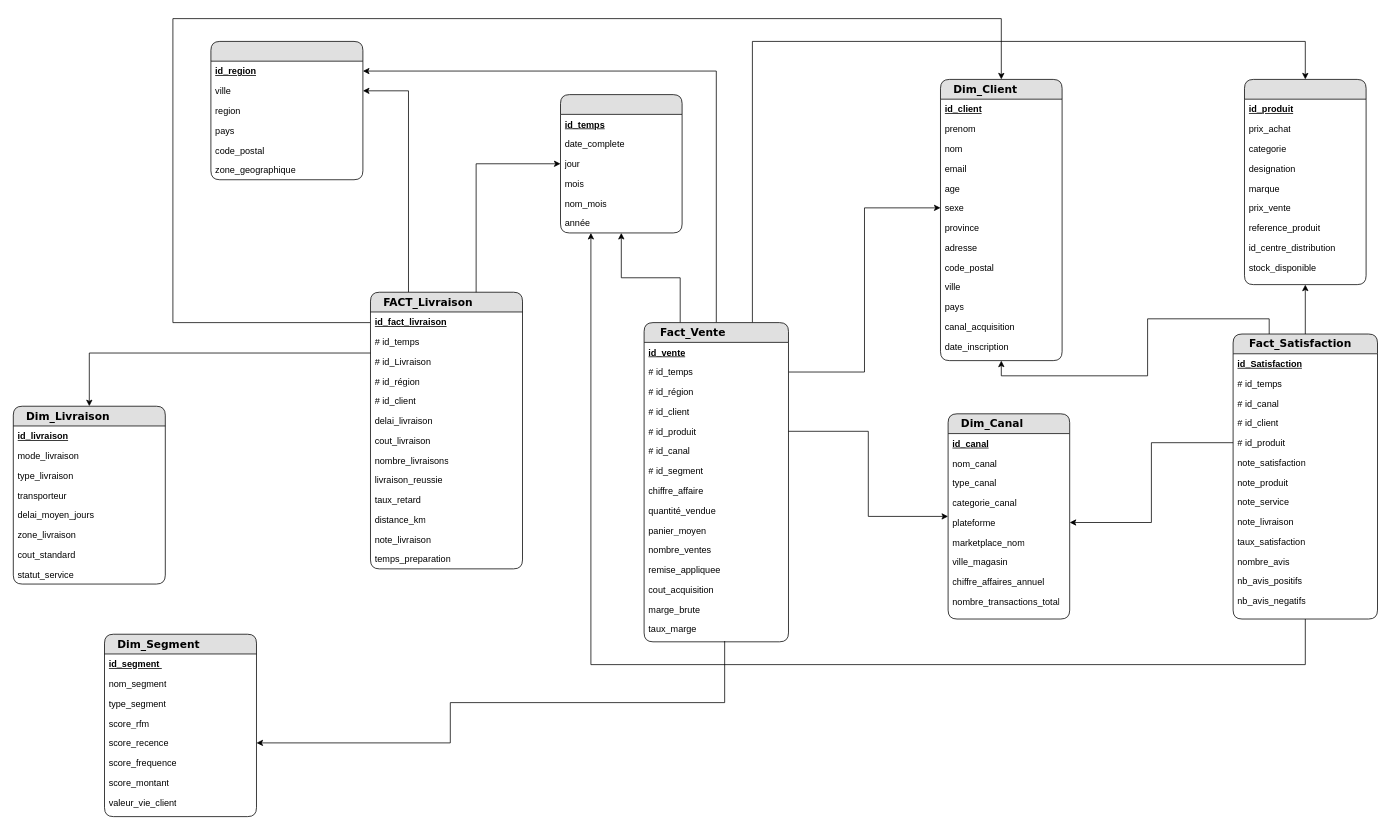
Image size: 1391x830. Some labels were removed from this diagram. The shapes that lost their labels are listed below. From the top down, each one's box as (x1, y1, x2, y2) in pixels, then its label:
(210, 41, 363, 180): Dim_Région
(560, 94, 682, 233): Dim_Temps
(1244, 79, 1366, 285): Dim_Produit
